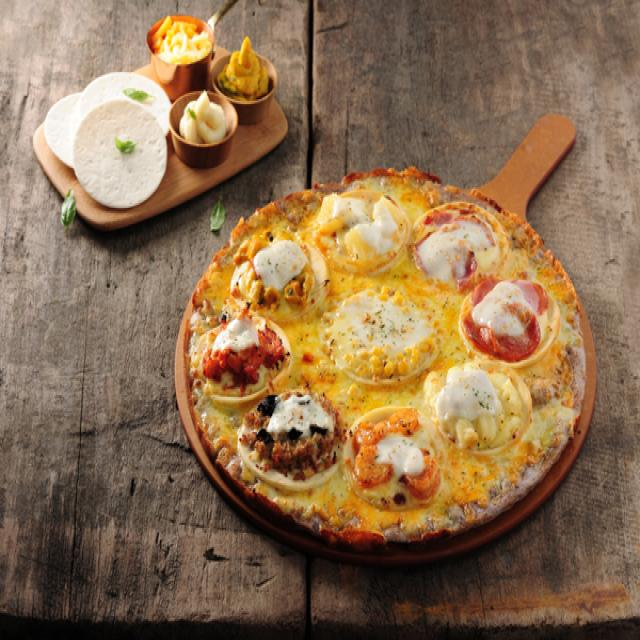Wet Waste: (180, 162, 590, 551)
